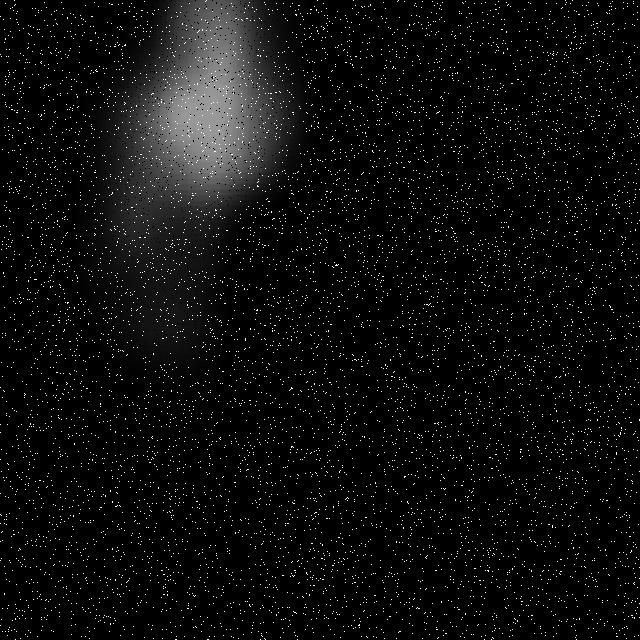person: (51, 1, 375, 508)
